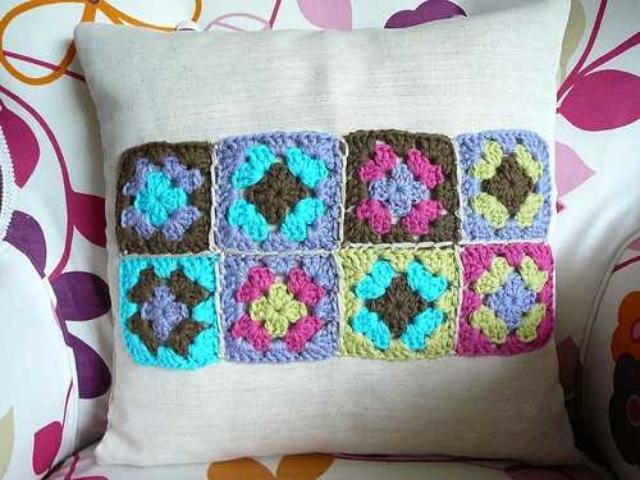pillow: (70, 2, 582, 470)
